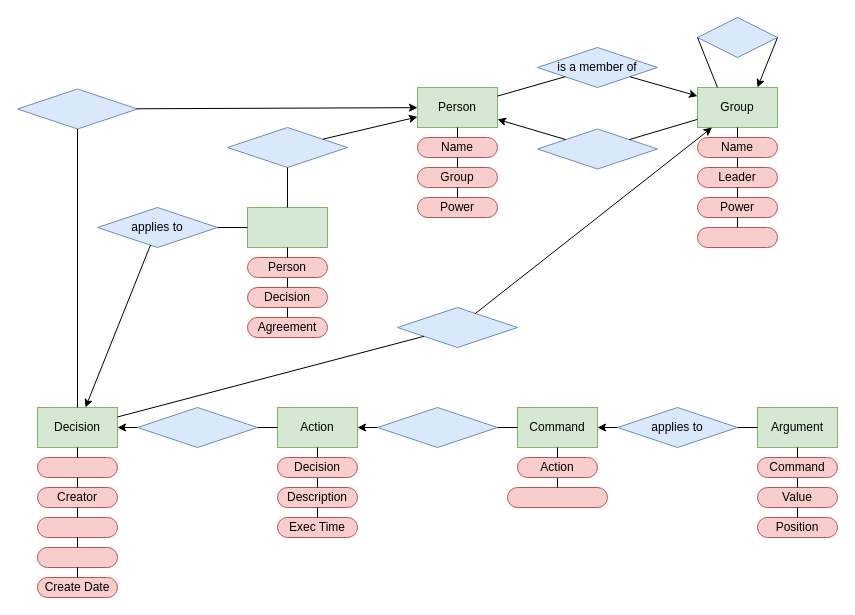
Some shapes in this 855 by 615 pixel diagram are drawn without their labels. Each missing label, with the centre of its shape:
approved by: the point at 197,427
Close Time: the point at 77,527
executed by: the point at 437,427
has parent: the point at 737,37
is lead by: the point at 597,148
is voted on by: the point at 457,327
Parent: the point at 737,237
SQL command: the point at 557,497
Title: the point at 77,467
Vote: the point at 287,227
voted by: the point at 287,147
Voting: the point at 77,557
was created by: the point at 77,108
